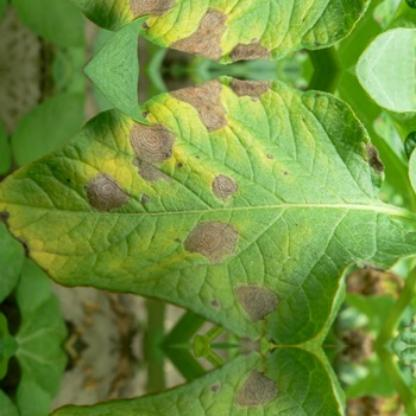Early-Blight: (0, 77, 416, 329), (0, 0, 416, 61), (0, 362, 416, 416)
